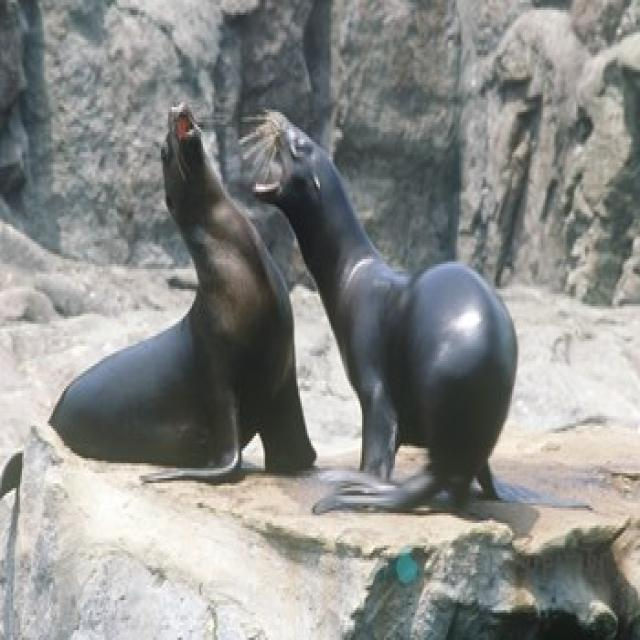WaterDog: (251, 107, 533, 534), (41, 101, 322, 484)
